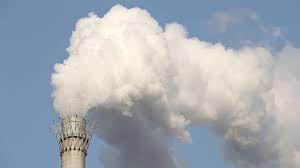smoke: (45, 3, 300, 168)
